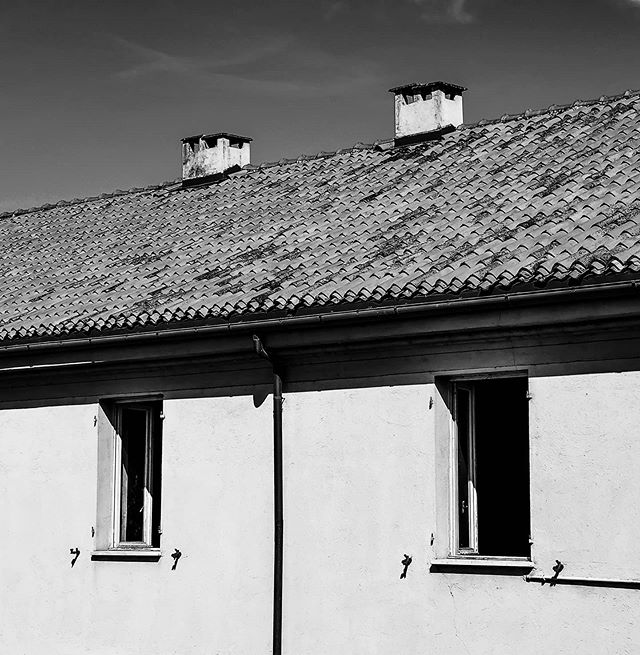building: (1, 87, 636, 655)
sky: (13, 1, 640, 194)
window: (431, 365, 550, 575), (72, 382, 196, 576)
